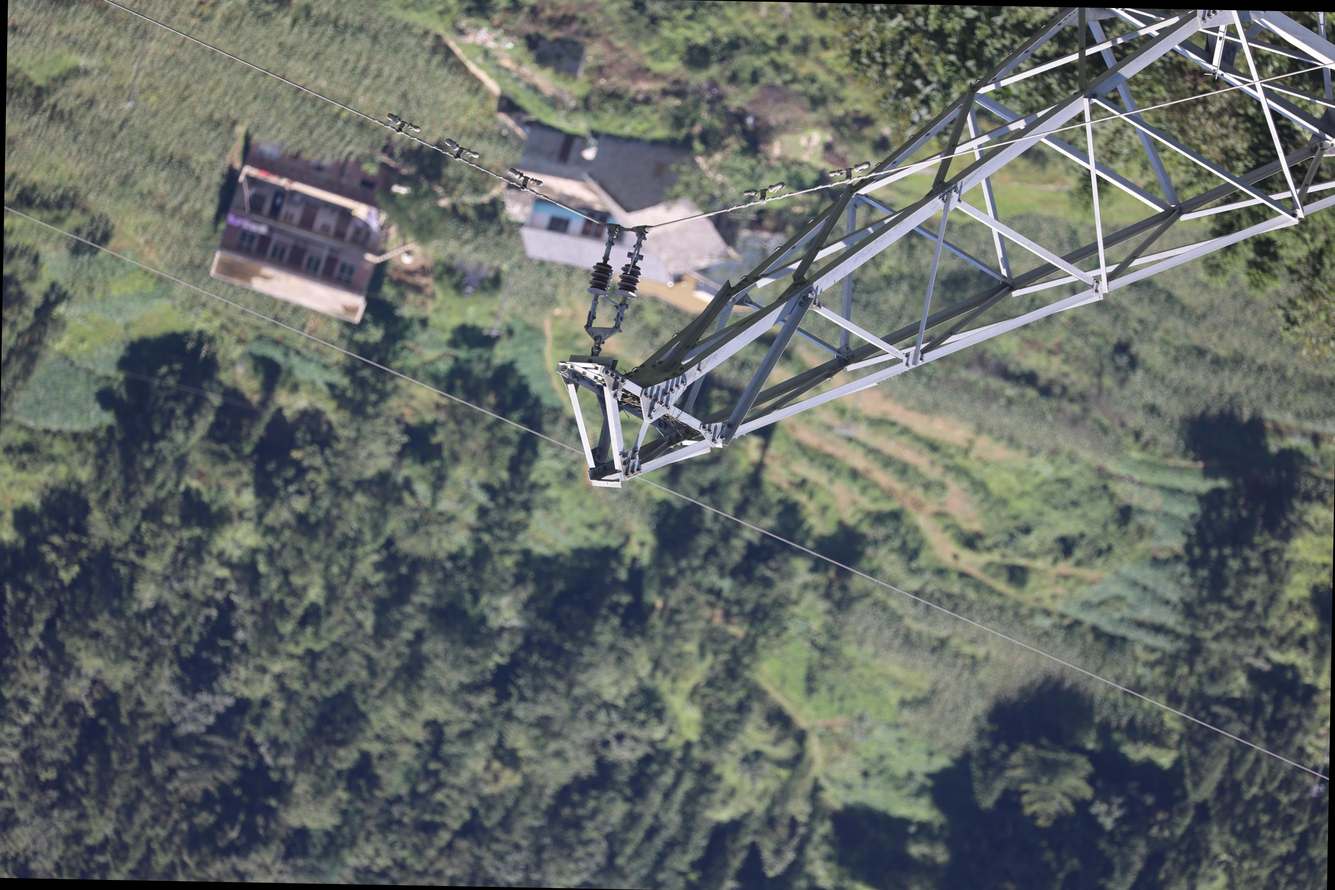damper: (827, 158, 872, 186), (741, 179, 787, 206), (506, 166, 545, 194), (443, 136, 481, 164), (384, 111, 423, 137)
